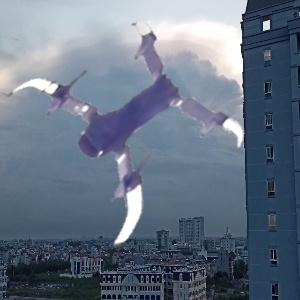drone: (7, 24, 225, 242)
